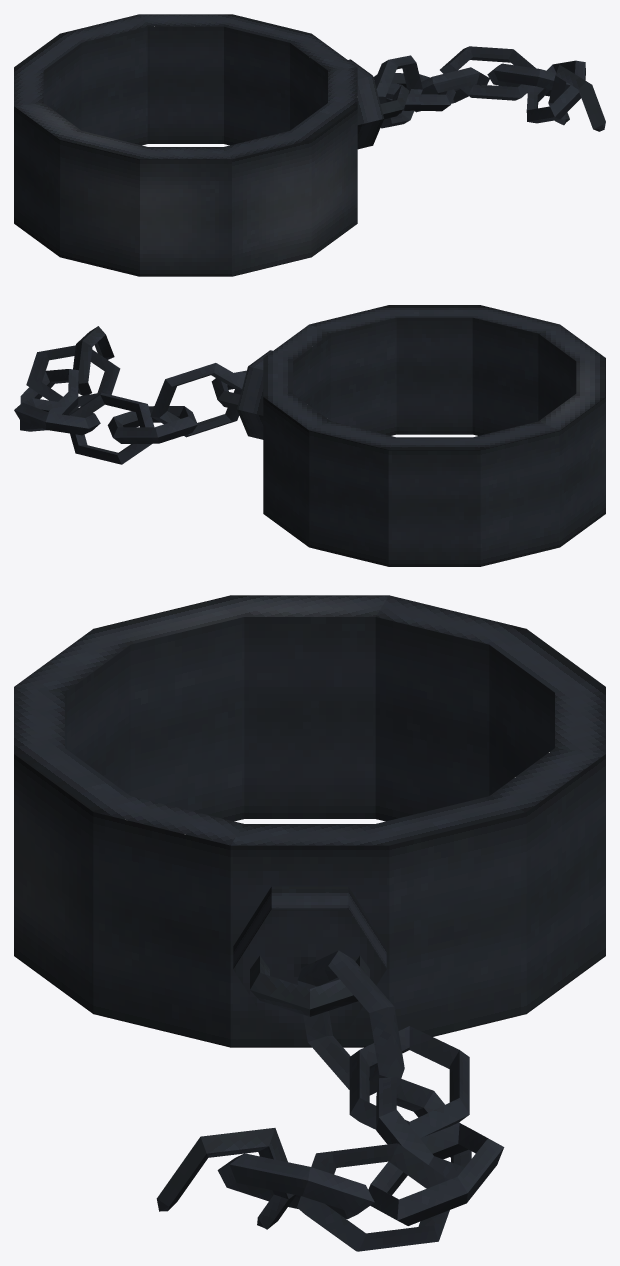
Rendered from Shackle.glb.
3 views of the same model, one above another, from view 1: azimuth 30°, elevation 25°; view 2: azimuth 150°, elevation 25°; view 3: azimuth 270°, elevation 25° (orthographic). The views are drawn at different scales.
Parts seen in each view (by area): view 1: Shackle_and_Chain; view 2: Shackle_and_Chain; view 3: Shackle_and_Chain.
Boxes of the visible parts, <box> form: Shackle_and_Chain: <box>14,14,605,276</box>; Shackle_and_Chain: <box>14,305,605,566</box>; Shackle_and_Chain: <box>14,595,605,1251</box>.
Bounding box in the file's own units: 0.098 × 0.0207 × 0.0531.
1 material, 1 textured.
